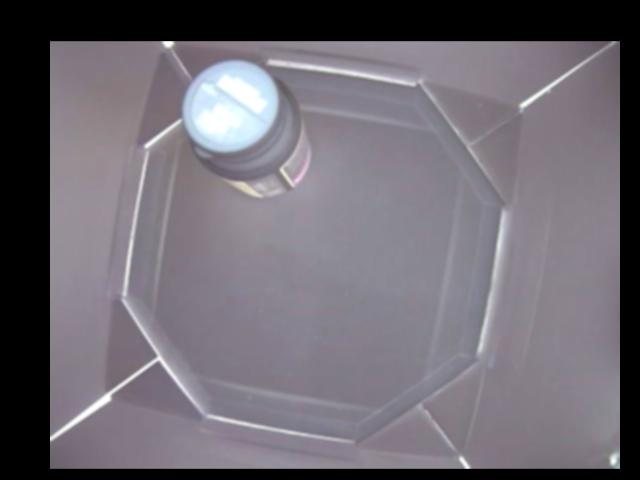Bottle: (181, 58, 312, 197)
